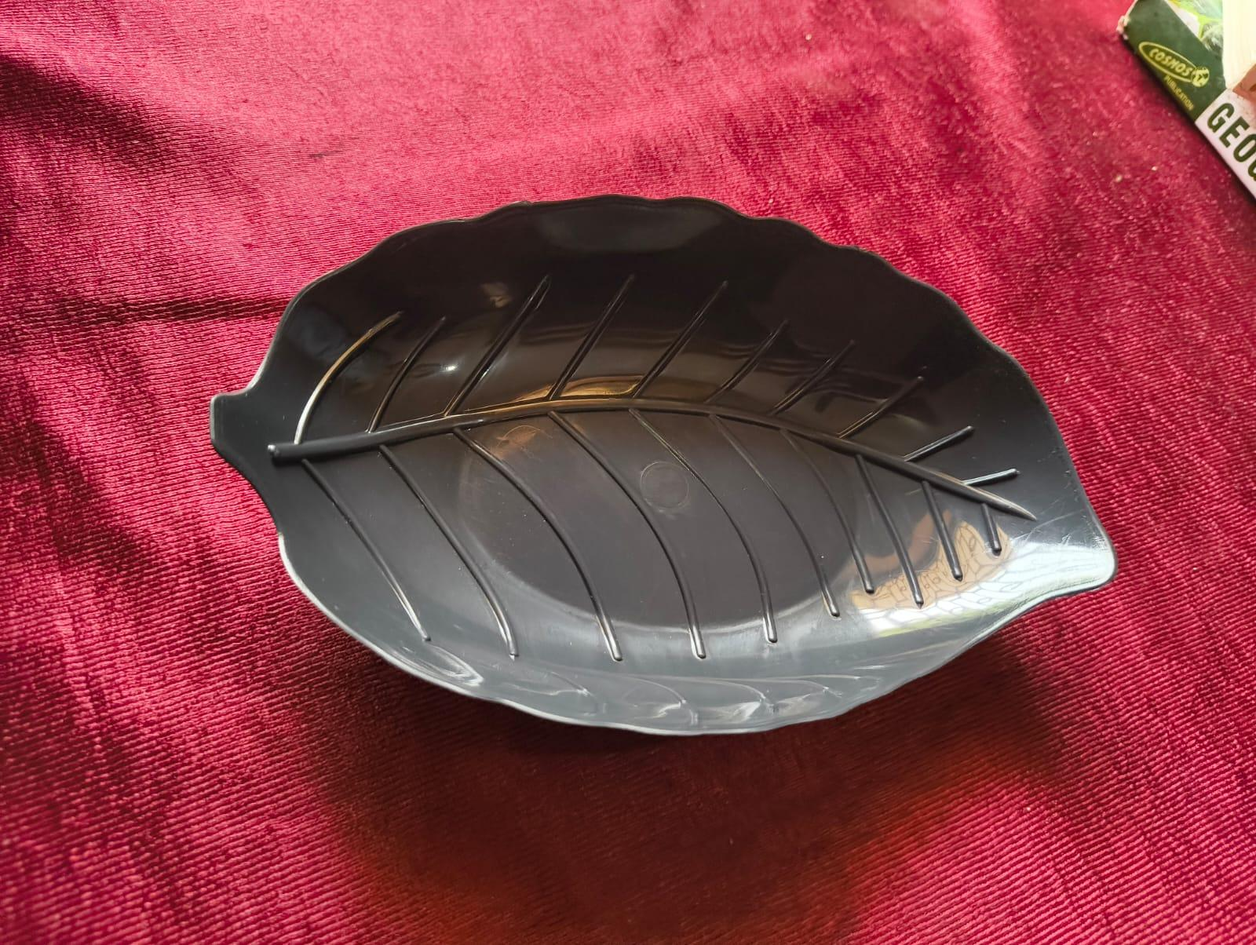plate: (185, 170, 1155, 749)
